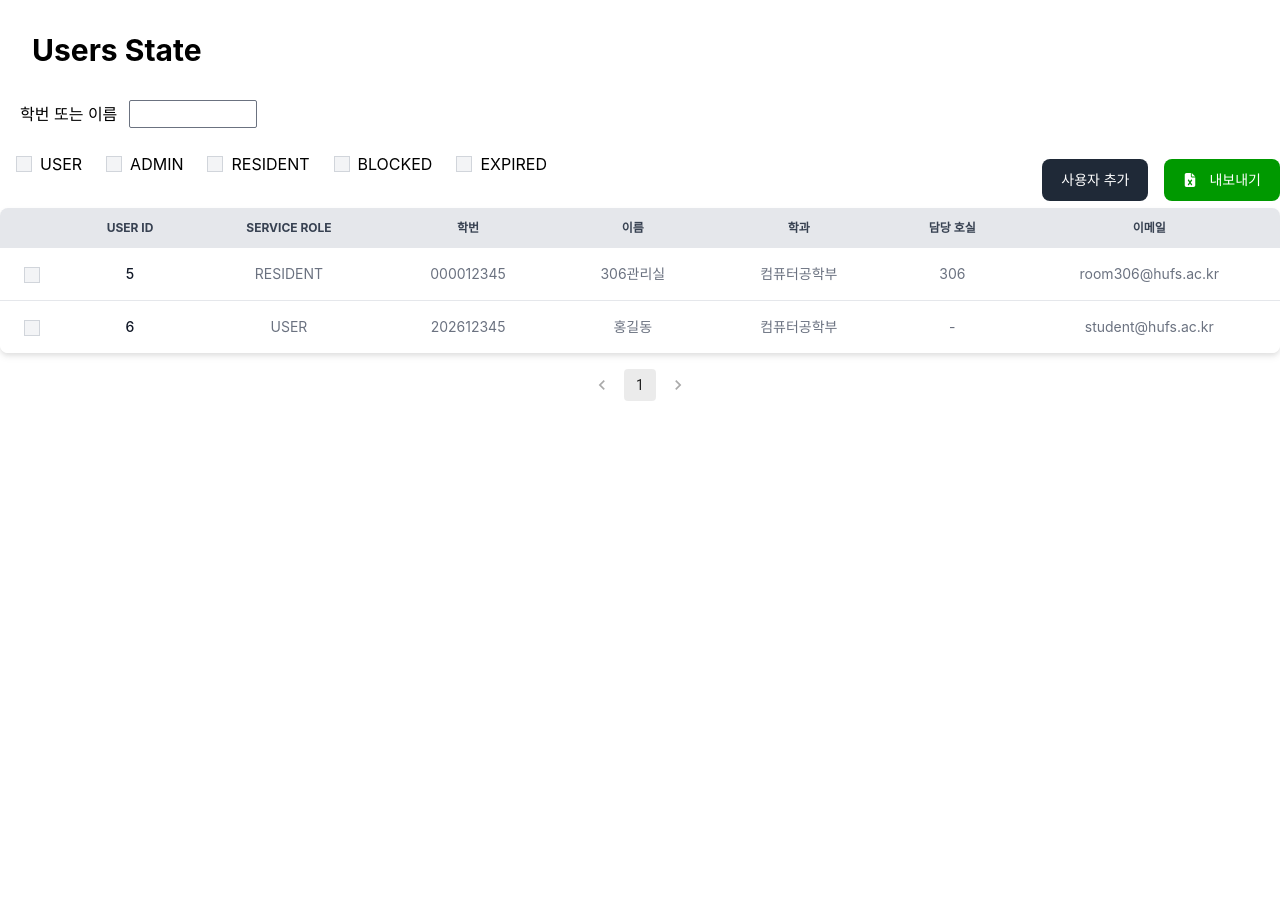
Scenario: FetchState 담당 호실 › 관리실 계정이 아니면 담당 호실을 고를 수 없고, 역할을 바꾸면 열린다
The image size is (1280, 900).
Click the checkbox in the row of "202612345" at point(32, 328), box [24,320,40,336]
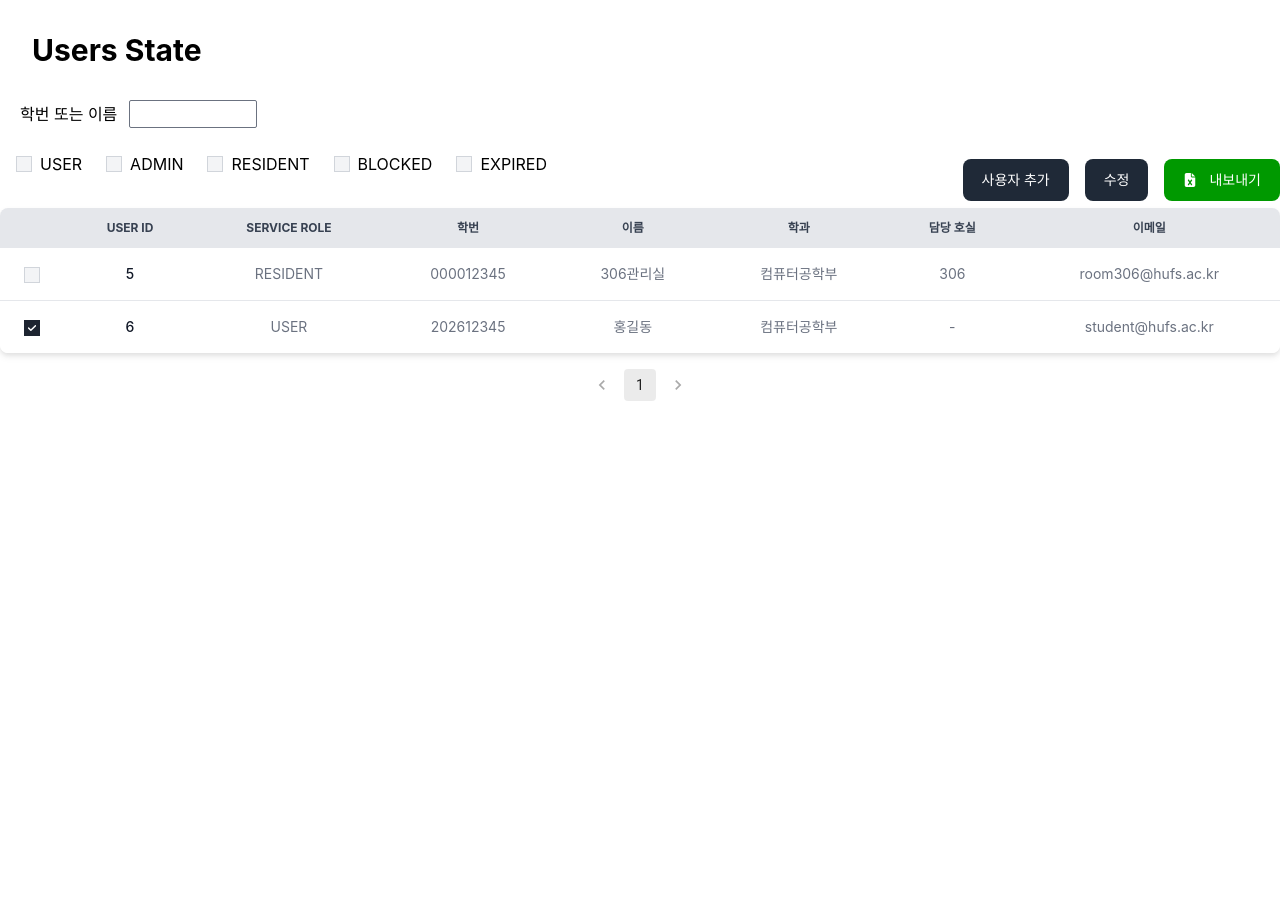
Click the button "수정" at point(1117, 180), box [1085,159,1148,201]
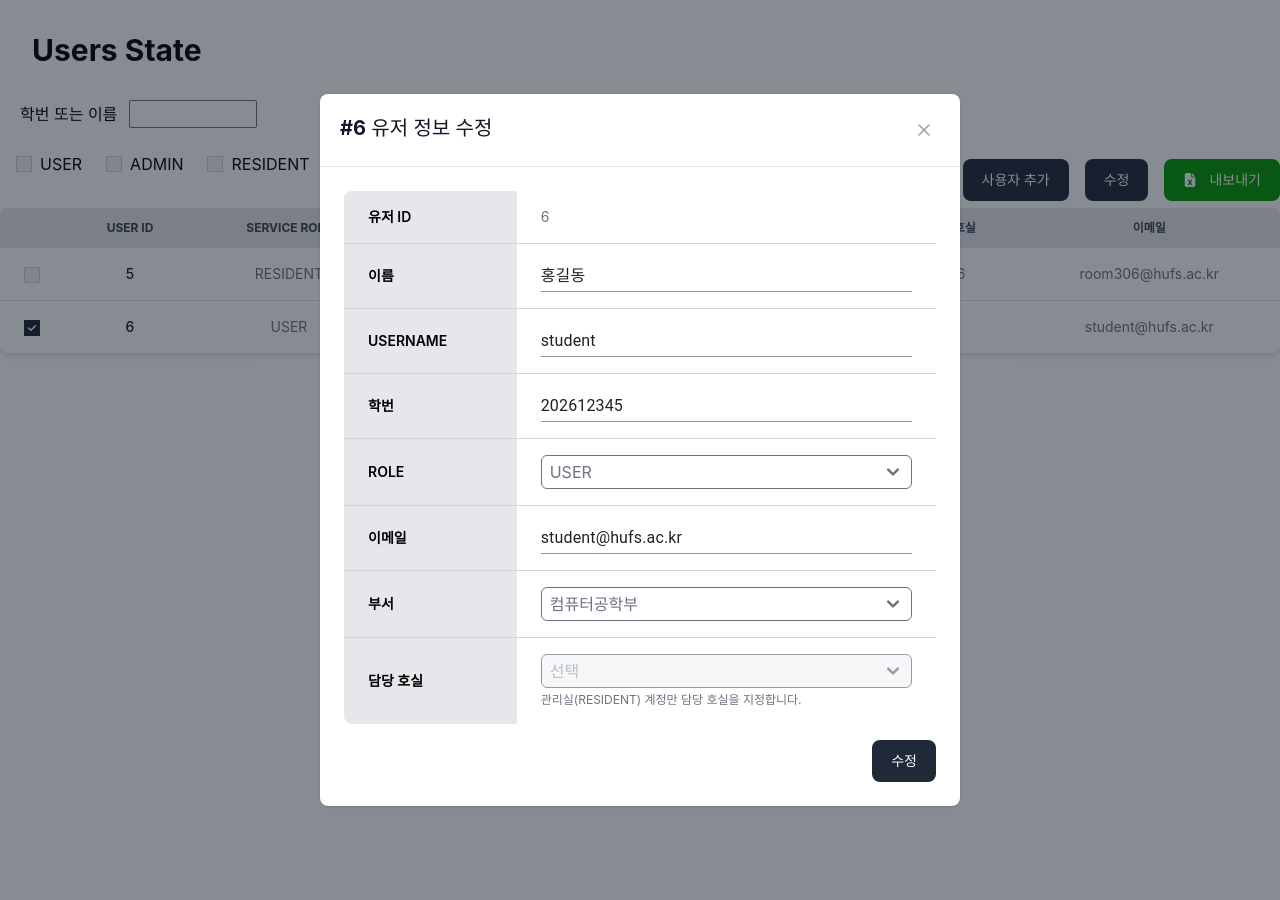
Check: the dropdown named "담당 호실" is disabled, box [541,654,912,688]
Check: the text "관리실(RESIDENT) 계정만 담당 호실을 지정합니다." is shown, box [541,692,802,707]
Select "RESIDENT" in the dropdown named "ROLE" at point(726, 472), box [541,455,912,489]
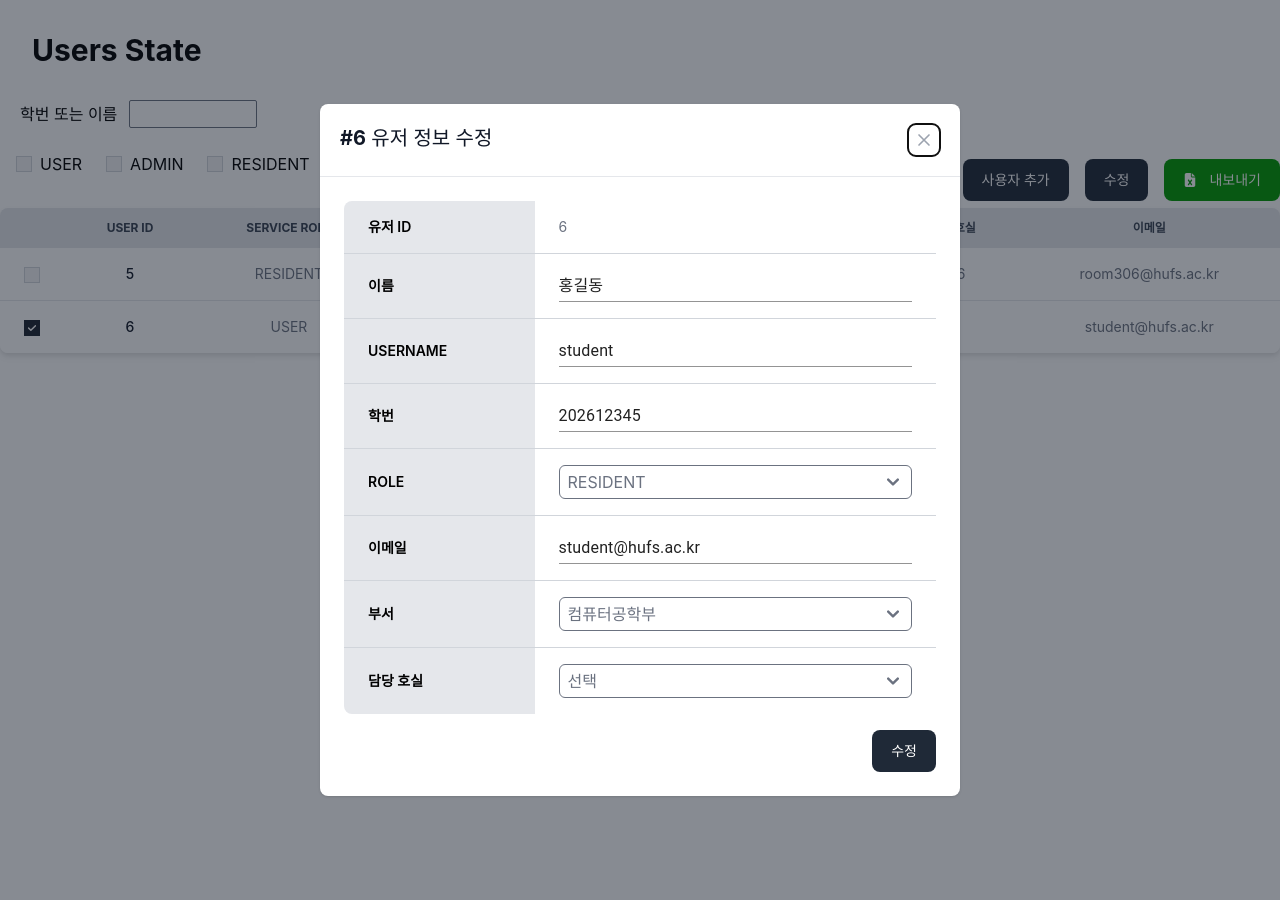
Check: the dropdown named "담당 호실" is enabled, box [559,664,912,698]
